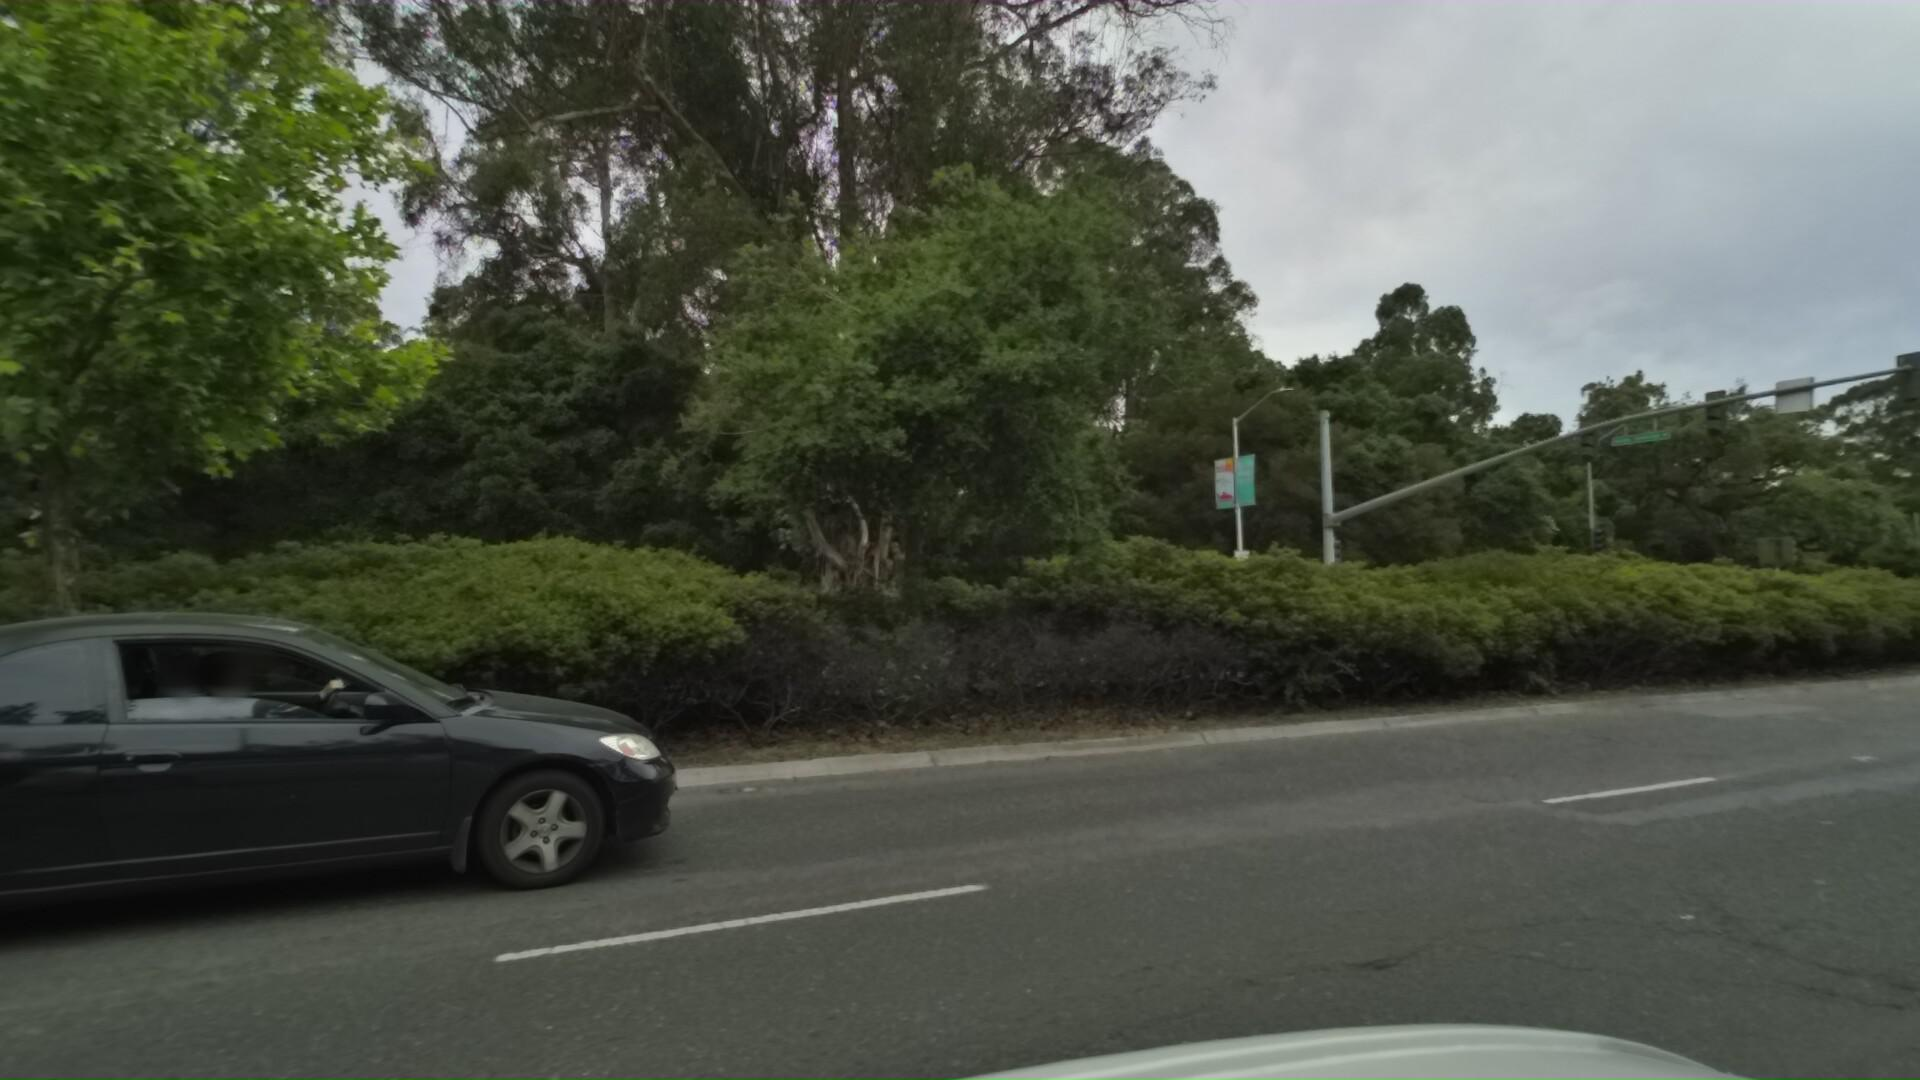car: (0, 574, 703, 1058)
